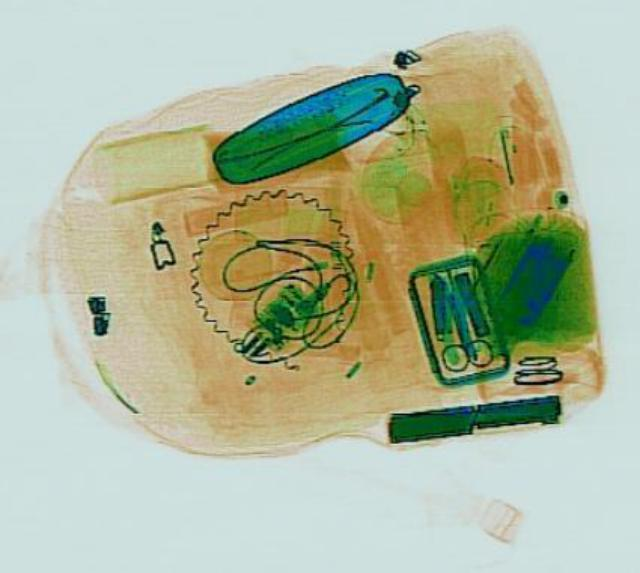Scissors: (418, 289, 496, 372)
